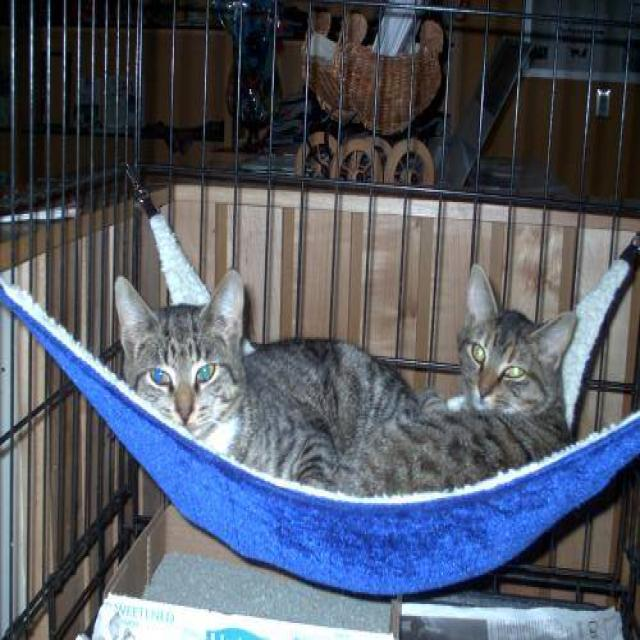cat: (87, 232, 428, 566), (287, 235, 585, 578)
